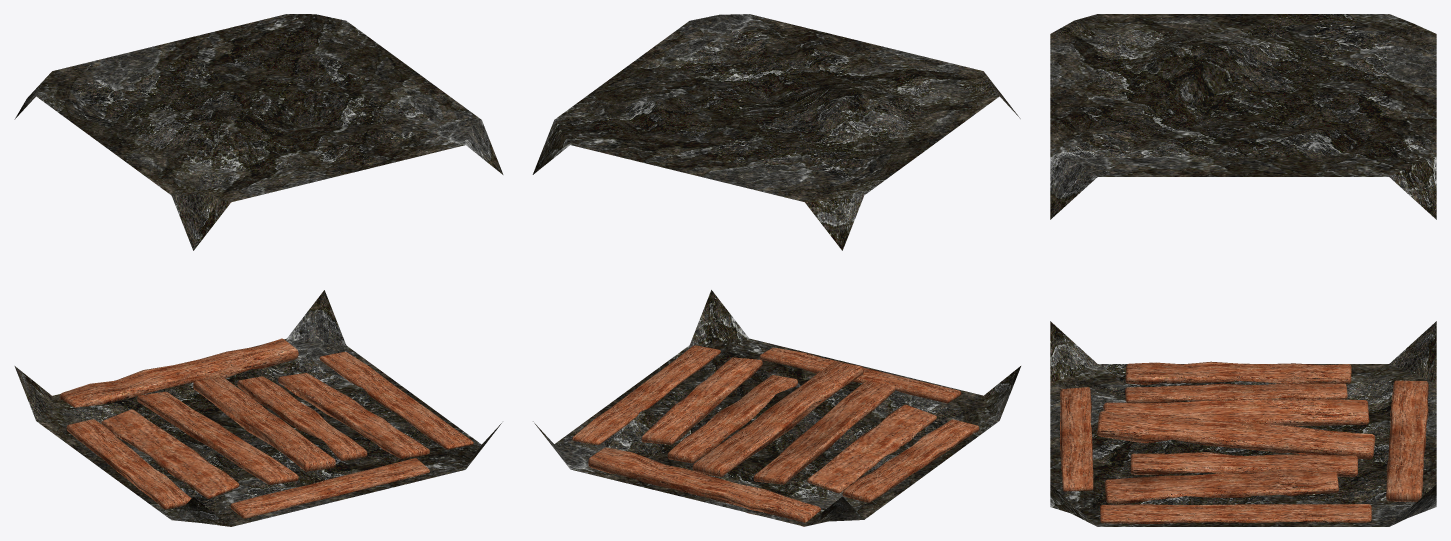
Rendered from Cave_003.fbx.
The picture shows the model from 3 angles, left to right: view 1: azimuth 30°, elevation 25°; view 2: azimuth 150°, elevation 25°; view 3: azimuth 270°, elevation 25°; orthographic projection. The views are drawn at different scales.
Visible parts, largest first — view 1: Cave.003; view 2: Cave.003; view 3: Cave.003.
Part boxes in pixels (left/top/right/bottom): Cave.003: left=14, top=14, right=503, bottom=526; Cave.003: left=532, top=14, right=1020, bottom=526; Cave.003: left=1050, top=14, right=1436, bottom=526.
Size of the model in its own units: 300 by 328 by 300.
